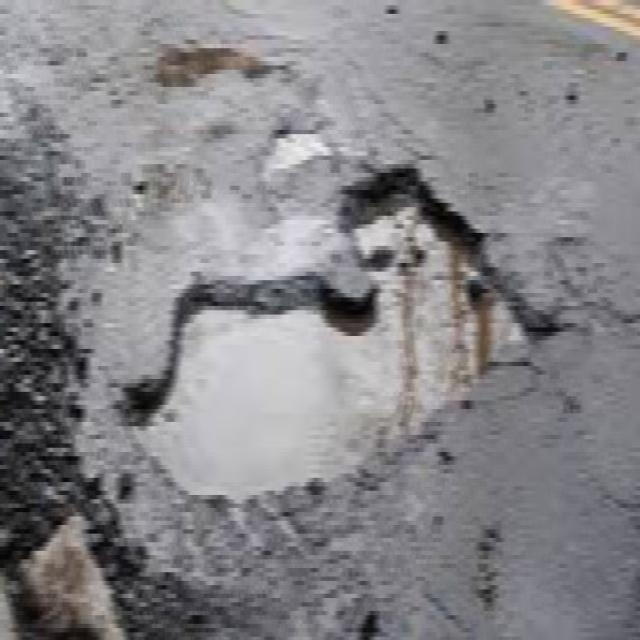Pothole: (98, 156, 568, 536), (130, 34, 298, 102), (243, 112, 342, 191)
